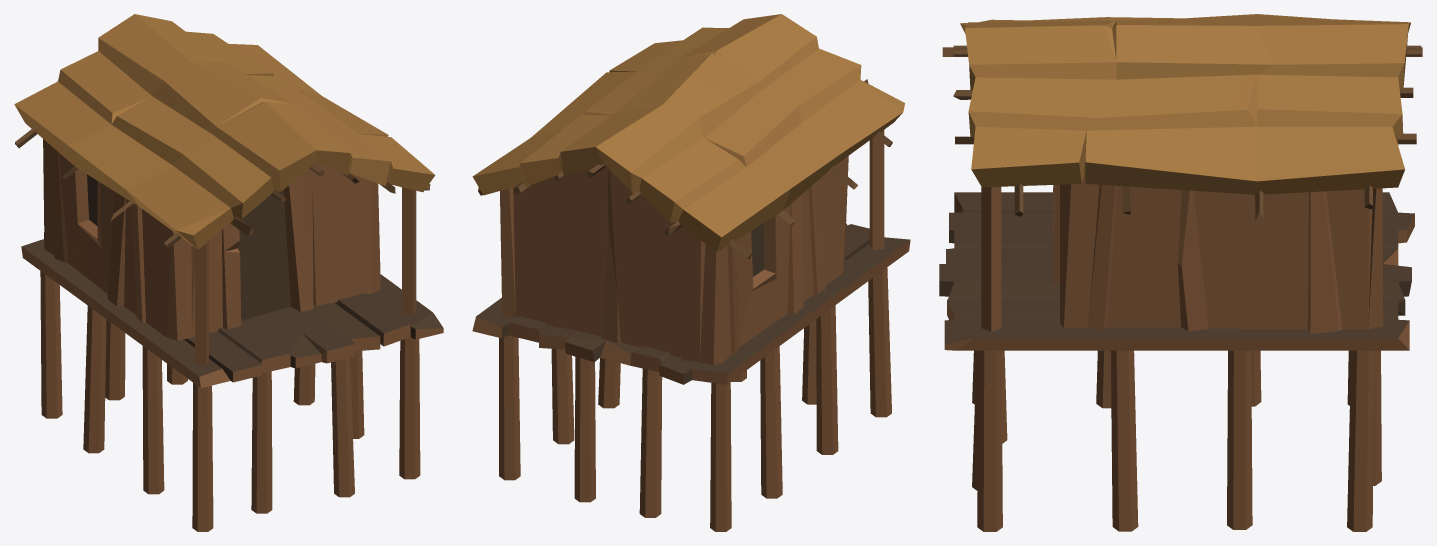
The model's file is pirates_pirate-hut-platform.fbx.
3 views of the same model, side by side, from view 1: azimuth 30°, elevation 25°; view 2: azimuth 150°, elevation 25°; view 3: azimuth 270°, elevation 25° (orthographic). The views are drawn at different scales.
Visible parts, largest first — view 1: pirates_pirate_hut_platform; view 2: pirates_pirate_hut_platform; view 3: pirates_pirate_hut_platform.
Part boxes in pixels (x1,y1,x2,y2): pirates_pirate_hut_platform: (14,14,443,531); pirates_pirate_hut_platform: (472,14,910,531); pirates_pirate_hut_platform: (939,14,1422,531).
Size of the model in its own units: 162 by 200 by 197.
